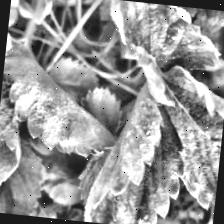Powdery Mildew Leaf: (82, 75, 195, 224), (0, 38, 127, 163), (98, 0, 224, 112), (149, 62, 224, 211)
